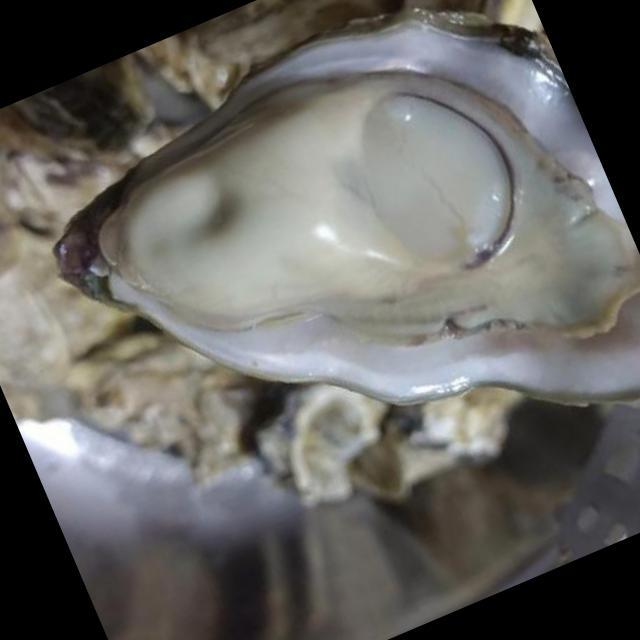Oyster- Indeterminate: (46, 280, 303, 532), (336, 348, 550, 510)
Oyster-Closed: (231, 348, 418, 530)
Oyster-Open: (54, 0, 640, 443)
